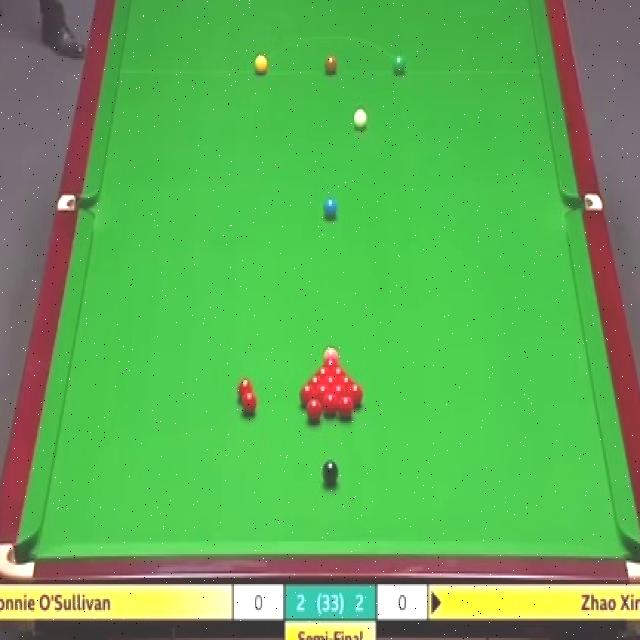black-ball: (321, 457, 339, 487)
blue-ball: (325, 198, 338, 222)
brown-ball: (324, 55, 338, 74)
green-ball: (393, 54, 405, 75)
pink-ball: (323, 343, 339, 361)
red-ball: (240, 391, 260, 418), (322, 392, 339, 418), (305, 399, 322, 425), (346, 383, 364, 405), (300, 383, 316, 406), (238, 376, 254, 399), (339, 397, 355, 420), (315, 383, 331, 400), (332, 385, 346, 404), (329, 367, 348, 378), (321, 357, 340, 367), (338, 376, 356, 386), (323, 376, 339, 387), (313, 367, 330, 377), (308, 376, 322, 387)
white-ball: (352, 105, 368, 131)
yellow-ball: (254, 53, 269, 75)
